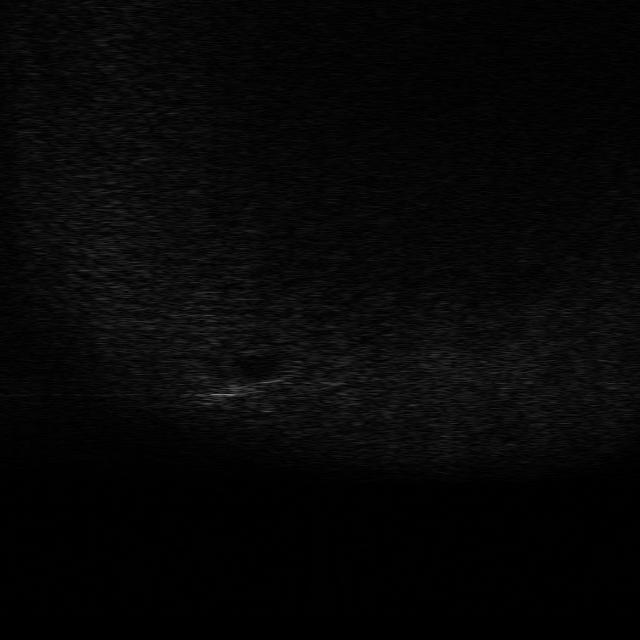plane: (194, 372, 288, 413)
